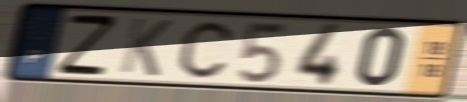0: (353, 25, 409, 89)
4: (293, 20, 345, 89)
5: (234, 19, 293, 85)
C: (177, 19, 235, 81)
K: (117, 15, 176, 79)
Z: (54, 13, 120, 77)
